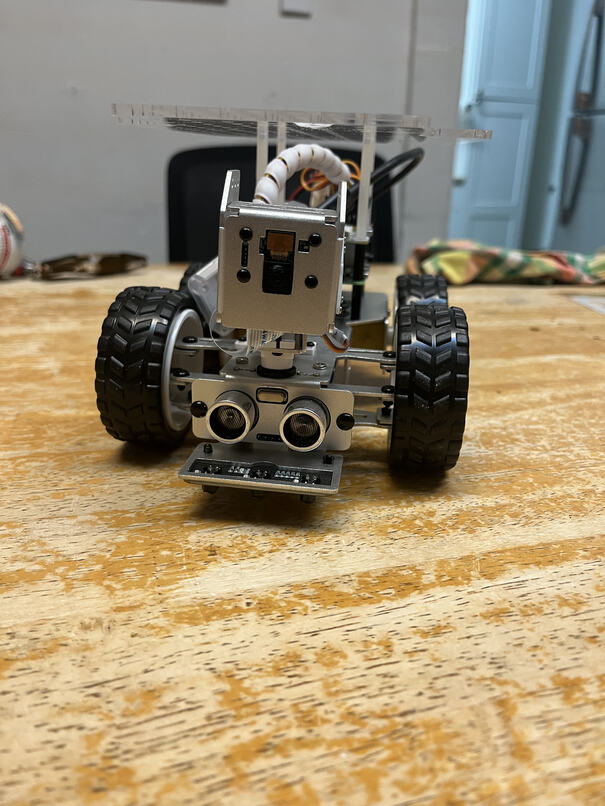vehicle: (96, 95, 506, 510)
